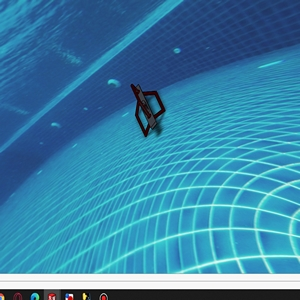submarine: (123, 83, 175, 130)
